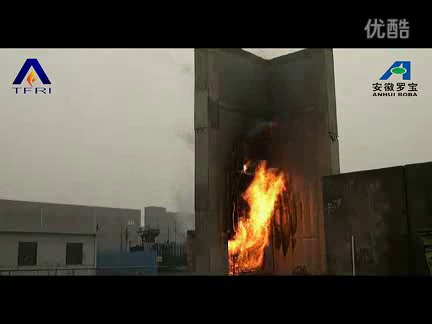fire: (223, 159, 300, 277)
